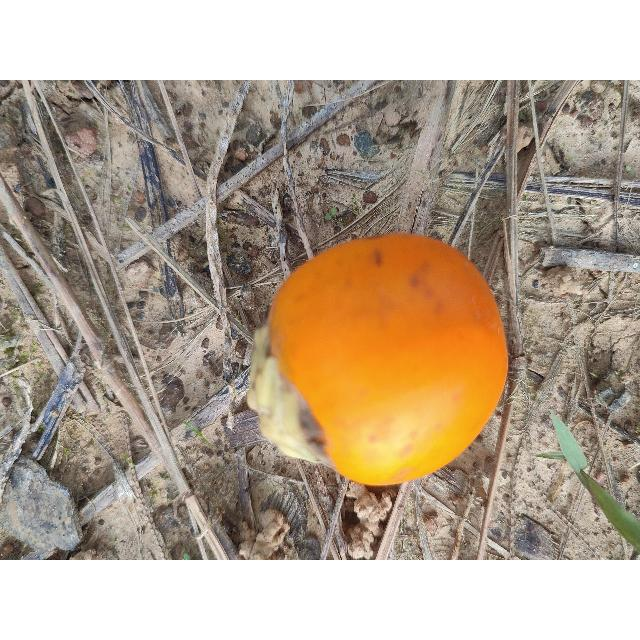good: (248, 233, 509, 489)
